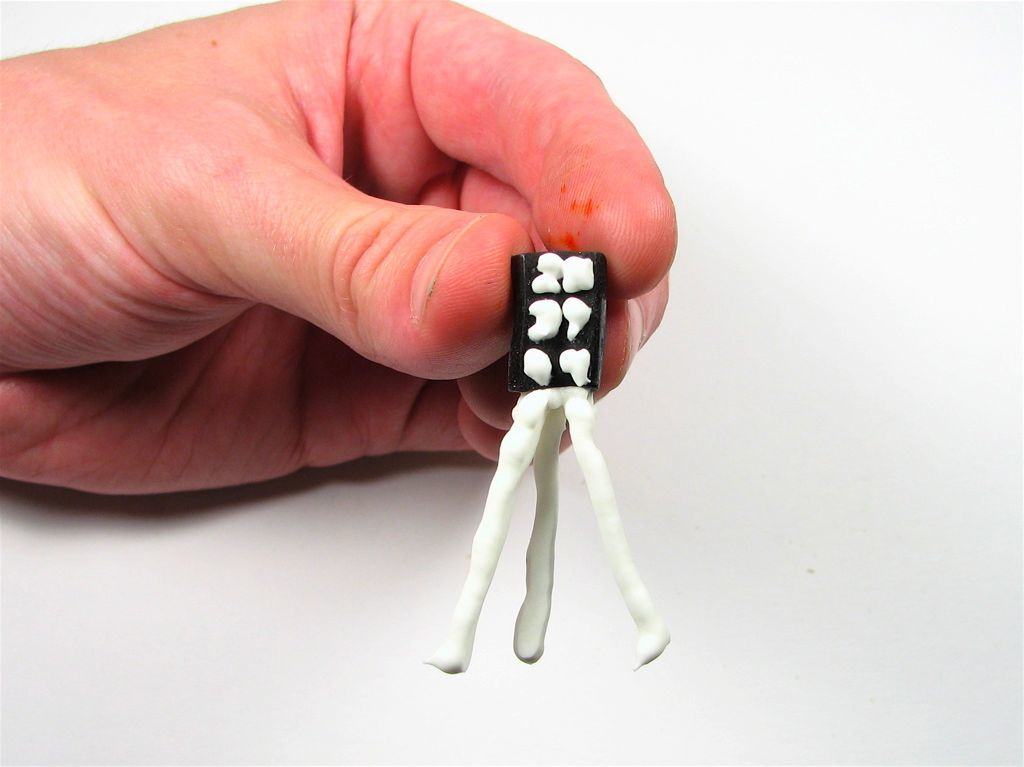Human_hand: (0, 10, 665, 421)
